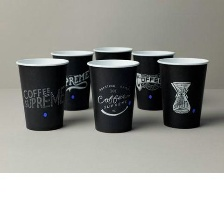paper_cup: (83, 55, 143, 136), (153, 52, 212, 132), (13, 54, 71, 135), (47, 46, 97, 113), (128, 46, 177, 114), (89, 42, 136, 62)
